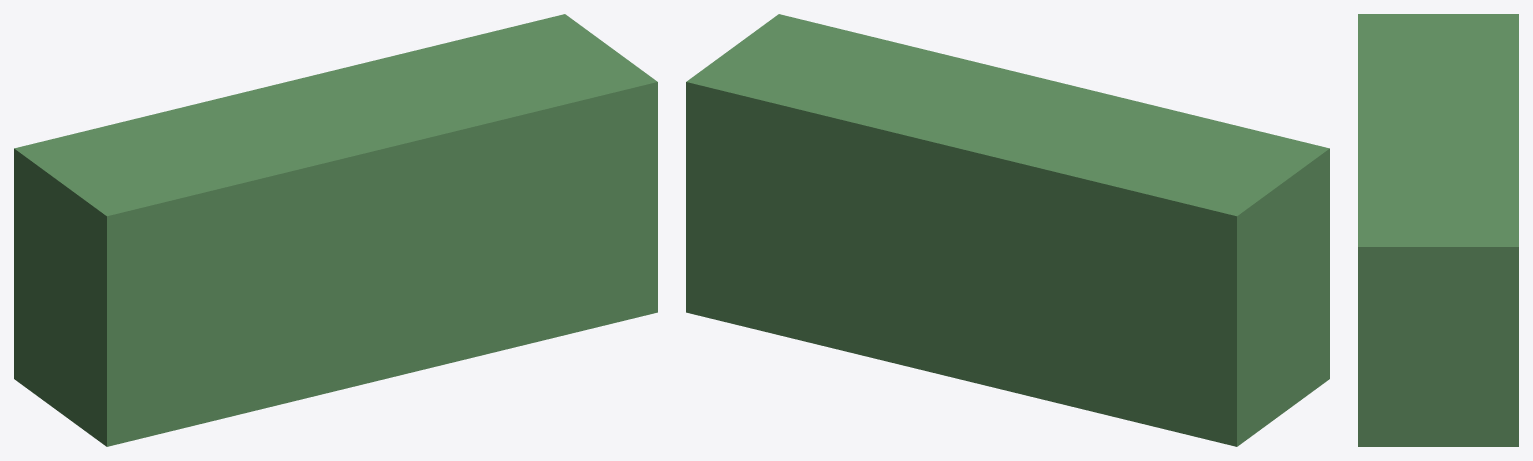
Rendered from nature_hedge.glb.
The picture shows the model from 3 angles, left to right: view 1: azimuth 30°, elevation 25°; view 2: azimuth 150°, elevation 25°; view 3: azimuth 270°, elevation 25°; orthographic projection. The views are drawn at different scales.
Parts seen in each view (by area): view 1: nature_hedge; view 2: nature_hedge; view 3: nature_hedge.
Boxes of the visible parts, x1=… form: nature_hedge: x1=14, y1=14, x2=657, y2=446; nature_hedge: x1=686, y1=14, x2=1329, y2=446; nature_hedge: x1=1358, y1=14, x2=1518, y2=446.
Bounding box in the file's own units: 2.4 × 0.96 × 0.7.
